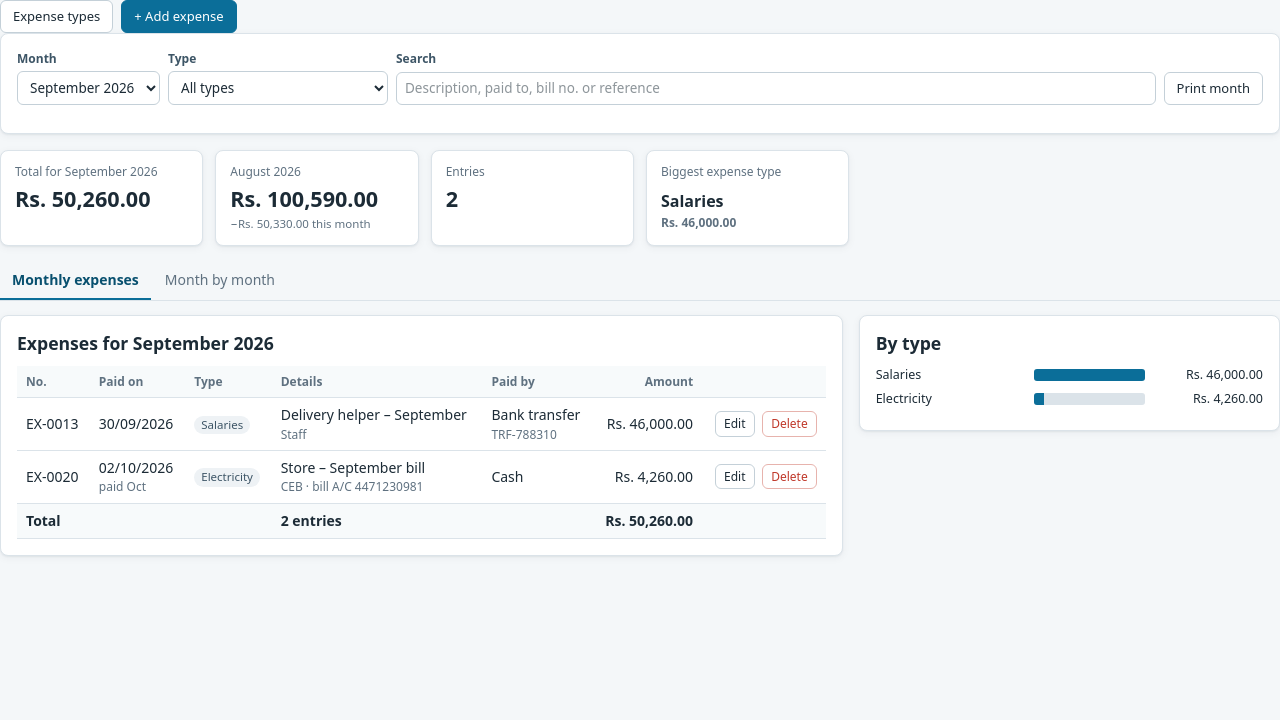
Test: Expenses › adds an expense for an earlier month, shows the server message, and saves another
Expected: the text "Store – September bill" is shown, [281,458,425,477]
Click the button "+ Add expense" at {"x": 179, "y": 16}, box [121,0,237,33]
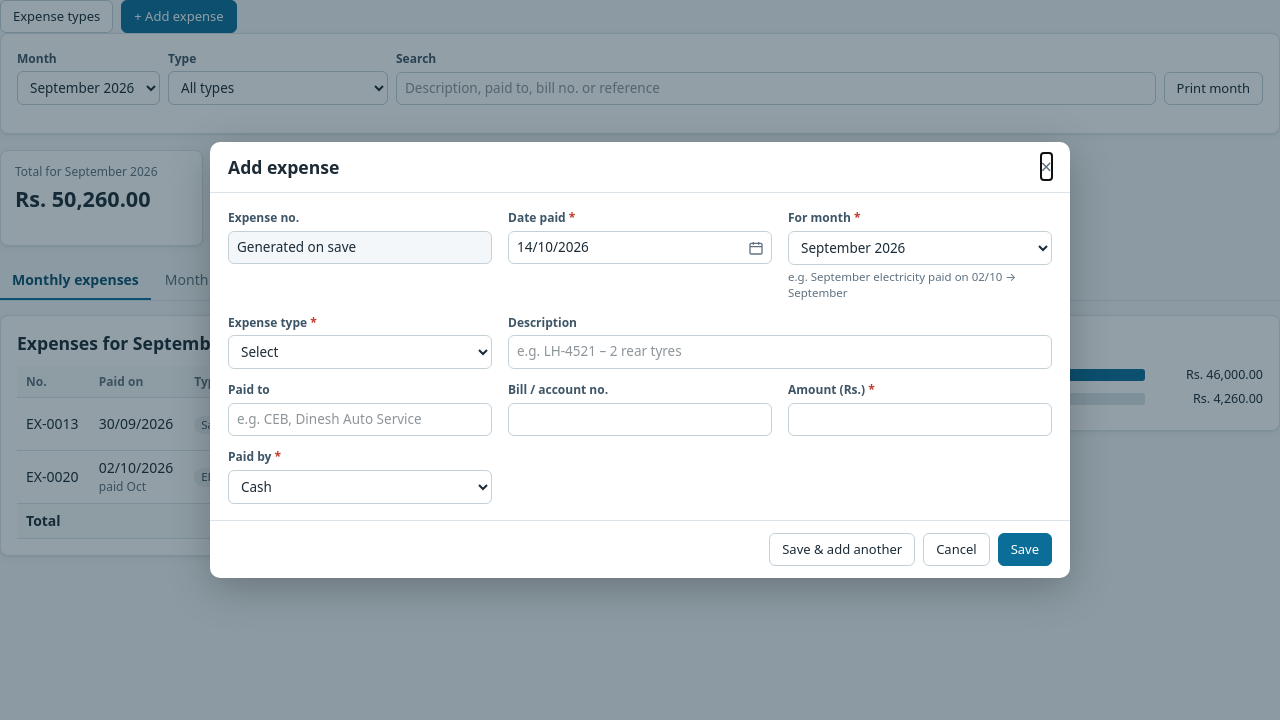
Now the field labelled "Expense no." holds "Generated on save", box [228,231,492,264]
Now the dropdown labelled "For month" shows "September 2026", box [788,231,1052,265]
Select "Electricity" in the dropdown labelled "Expense type" at {"x": 360, "y": 352}, box [228,336,492,370]
Type "Late meter fee" into the field labelled "Description" at {"x": 780, "y": 352}, box [508,336,1052,369]
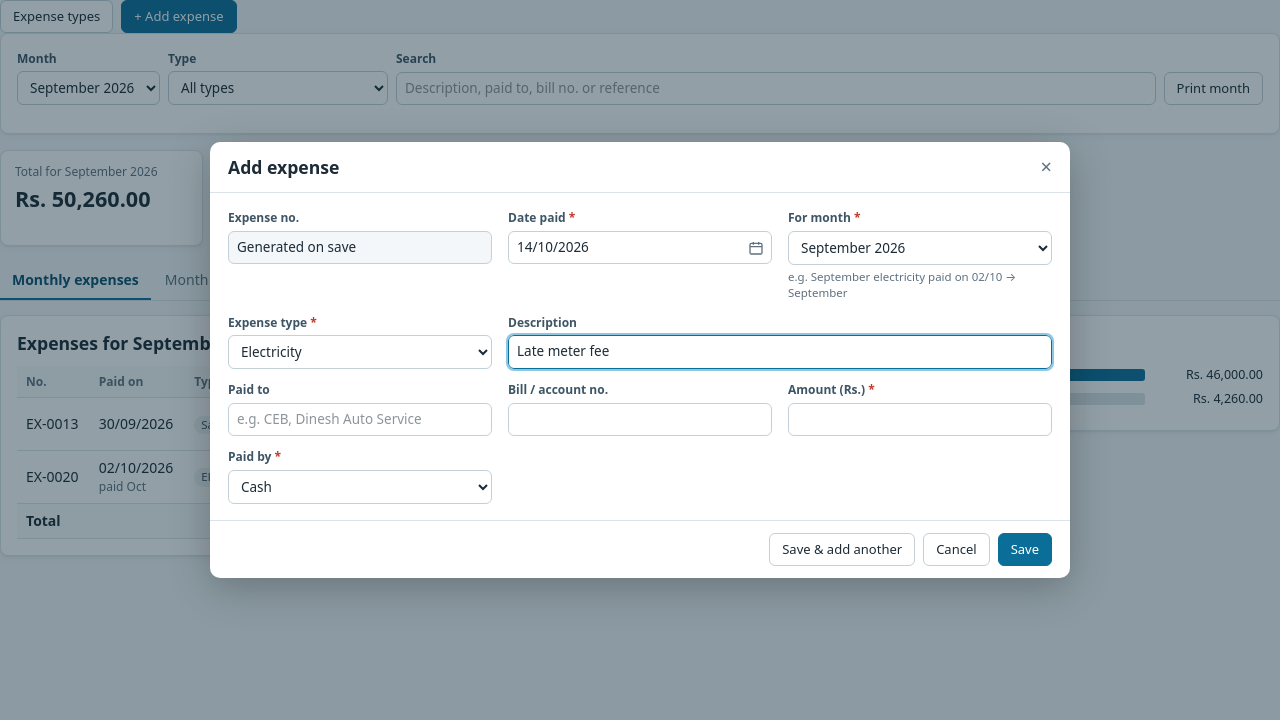
Type "1250" into the number field labelled "Amount (Rs.)" at {"x": 920, "y": 420}, box [788,403,1052,436]
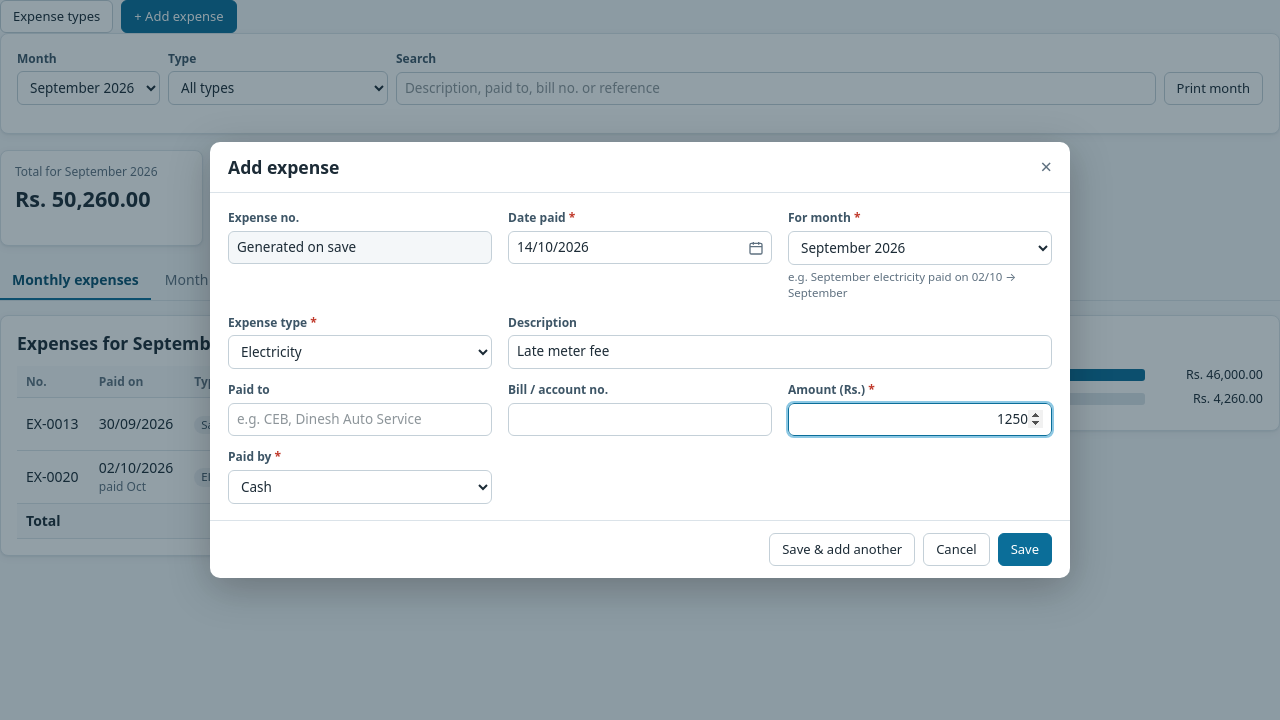
Expected: the field labelled "Cheque no. / bank ref." is not shown
Select "Cheque" in the dropdown labelled "Paid by" at {"x": 360, "y": 487}, box [228,470,492,504]
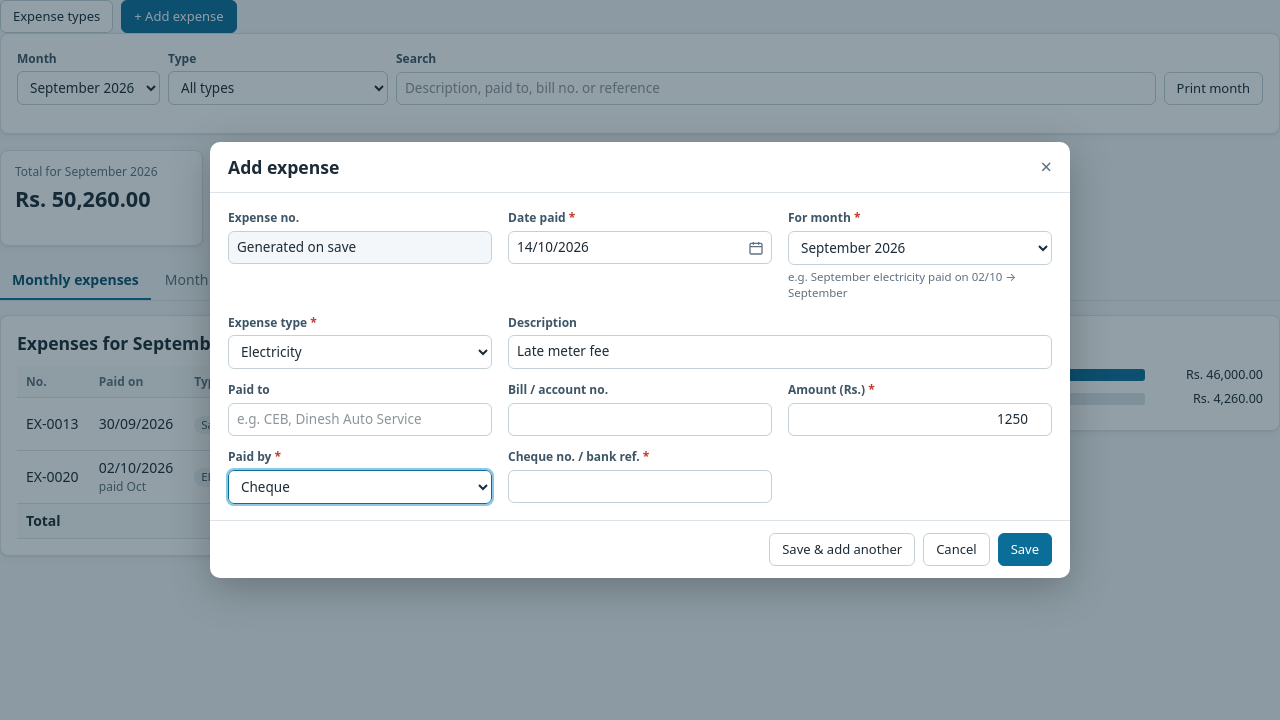
Click the button "Save" at {"x": 1025, "y": 549}, box [998,533,1052,566]
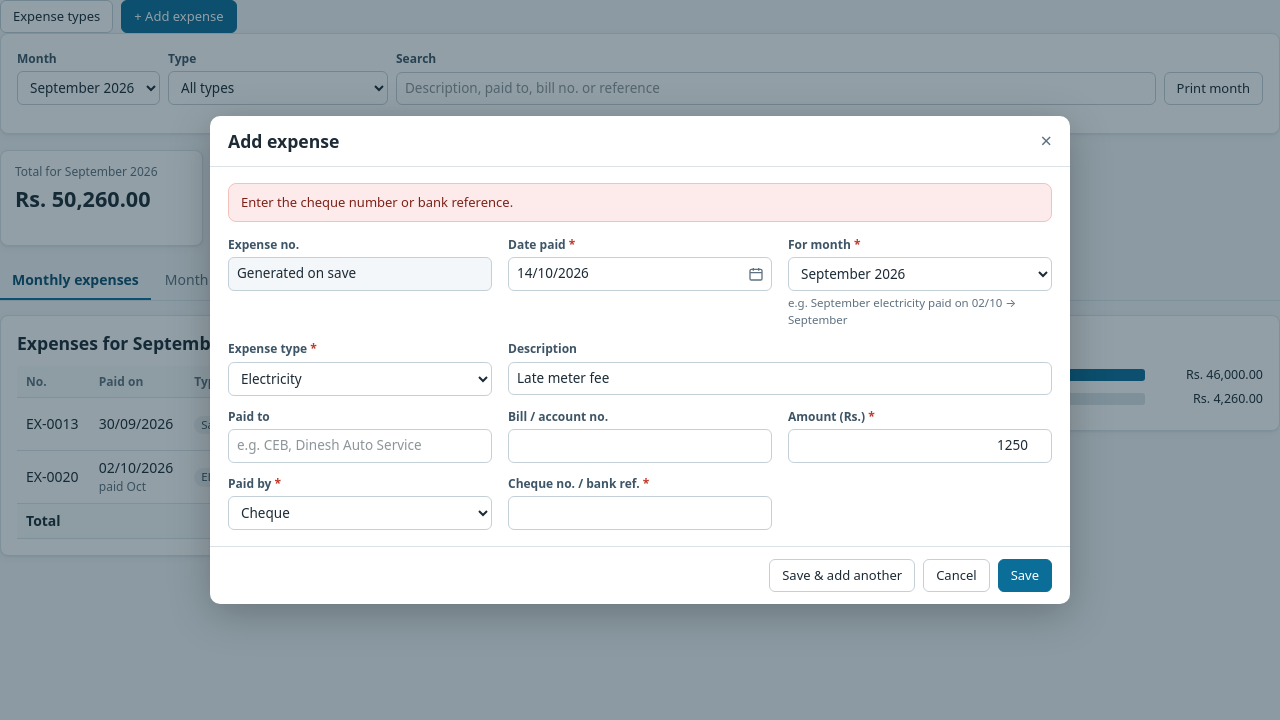
Now the text "Enter the cheque number or bank reference." is shown, box [228,183,1052,222]
Type "Cheque 330200" into the field labelled "Cheque no. / bank ref." at {"x": 640, "y": 513}, box [508,496,772,530]
Click the button "Save & add another" at {"x": 842, "y": 576}, box [769,559,915,592]
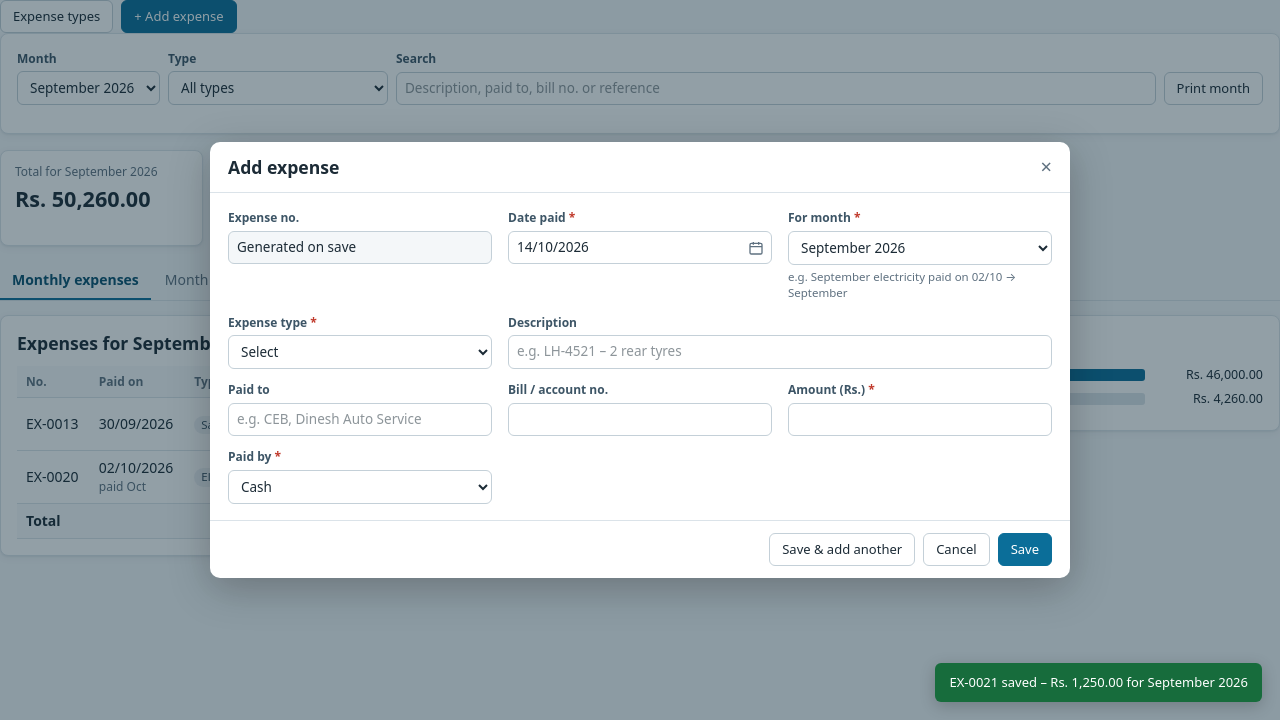
Now the dropdown labelled "For month" shows "September 2026", box [788,231,1052,265]
Now the text "EX-0021 saved – Rs. 1,250.00 for September 2026" is shown, box [935,663,1262,702]
Now the number field labelled "Amount (Rs.)" is not empty, box [788,403,1052,436]
